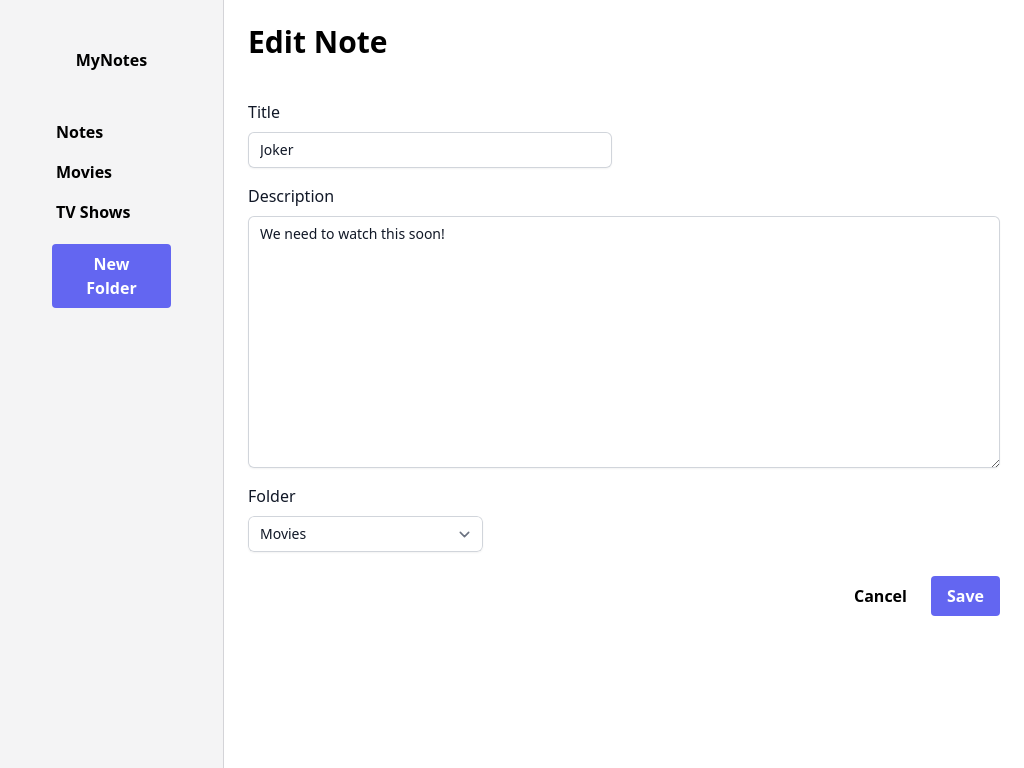
Test: should save the updated note, when the save button is clicked
Replace the text in the field labelled "Title" with "JokerNew". click: [430, 150]
box: [248,132,612,168]
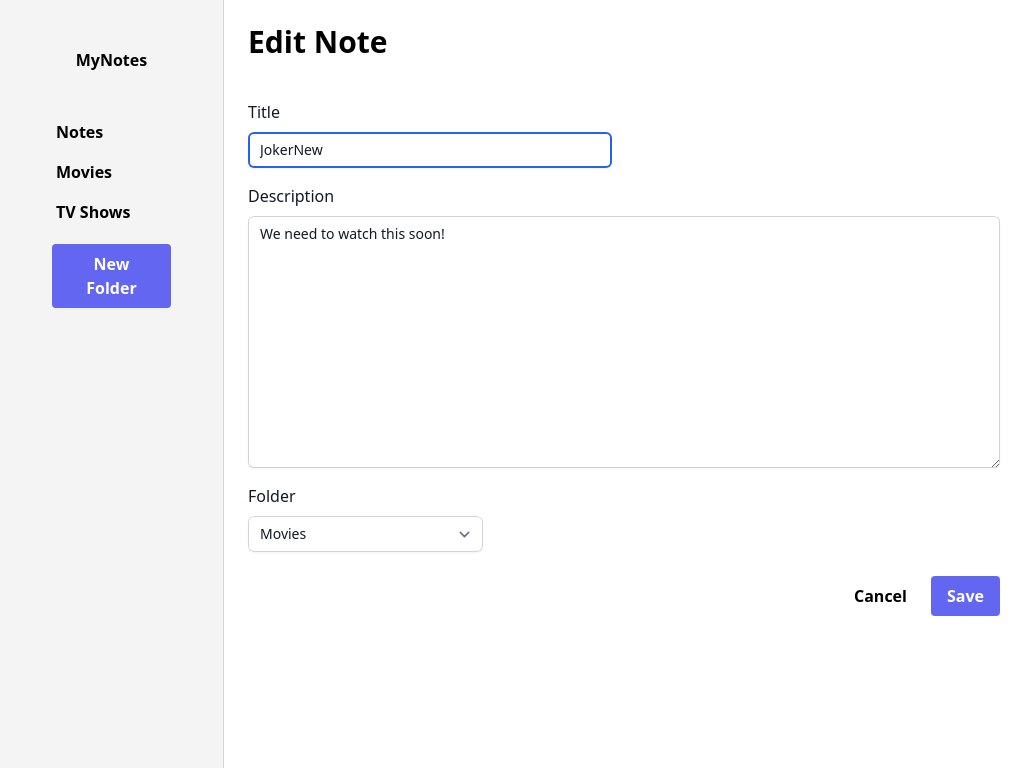
Replace the text in the text box labelled "Description" with "Ticket has been bought!". click: [624, 342]
box: [248,216,1000,468]
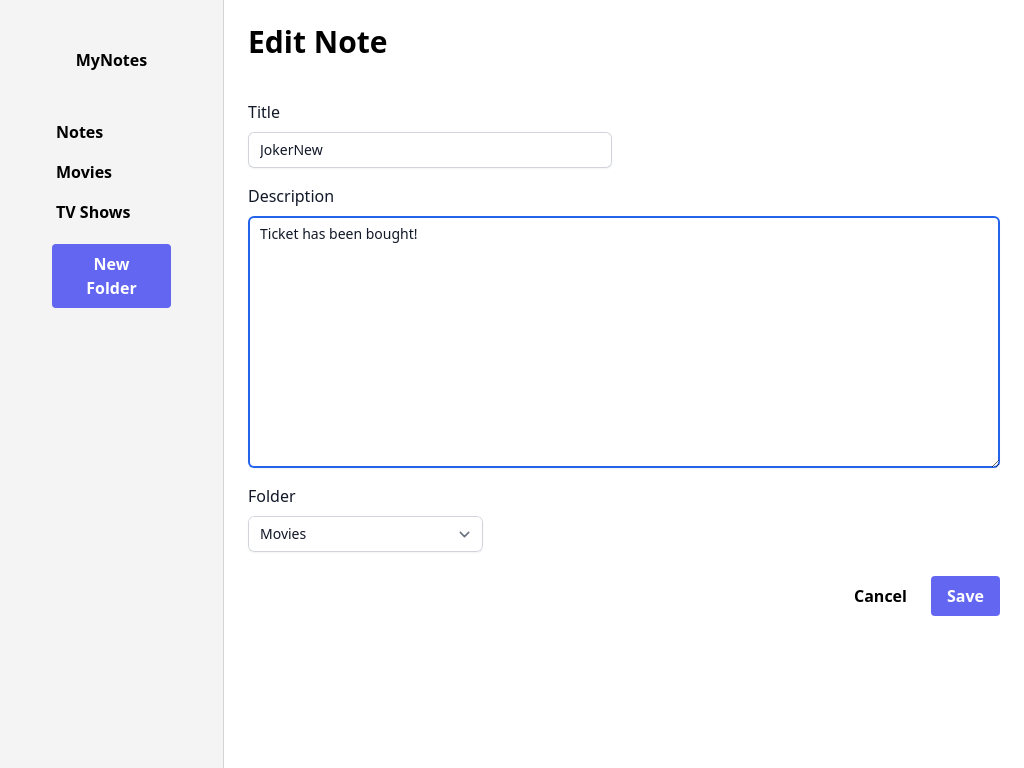
Click the button "Save". click: [966, 596]
box: [931,576,1000,616]
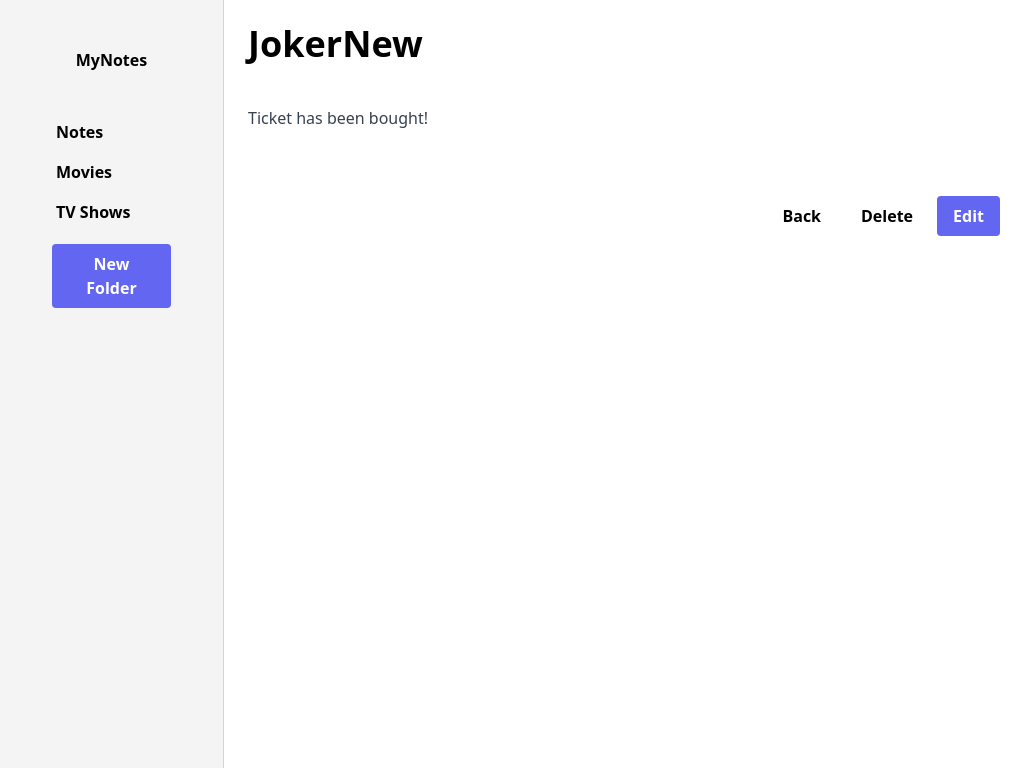
Expected: the text "We need to watch this soon!" is not shown
Expected: the heading "JokerNew" is shown, [248,19,423,68]
Expected: the text "Ticket has been bought!" is shown, [248,107,428,129]
